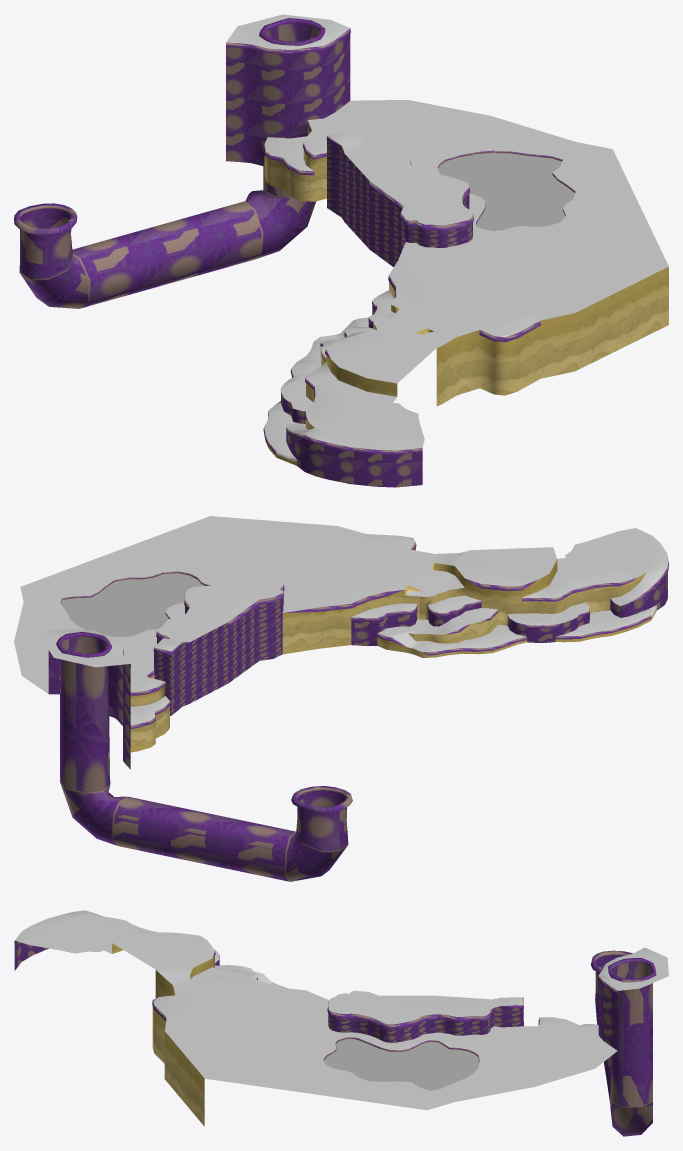
File: huge mesh mesh.fbx
The picture shows the model from 3 angles, top to bottom: view 1: azimuth 30°, elevation 25°; view 2: azimuth 150°, elevation 25°; view 3: azimuth 270°, elevation 25°; orthographic projection. The views are drawn at different scales.
Parts seen in each view (by area): view 1: polySurface70; view 2: polySurface70; view 3: polySurface70.
Boxes of the visible parts, x1,y1,x2,y2 form: polySurface70: (14, 14, 668, 487); polySurface70: (14, 516, 668, 881); polySurface70: (14, 910, 668, 1136).
Bounding box in the file's own units: 1.84 × 0.7209 × 2.42.
